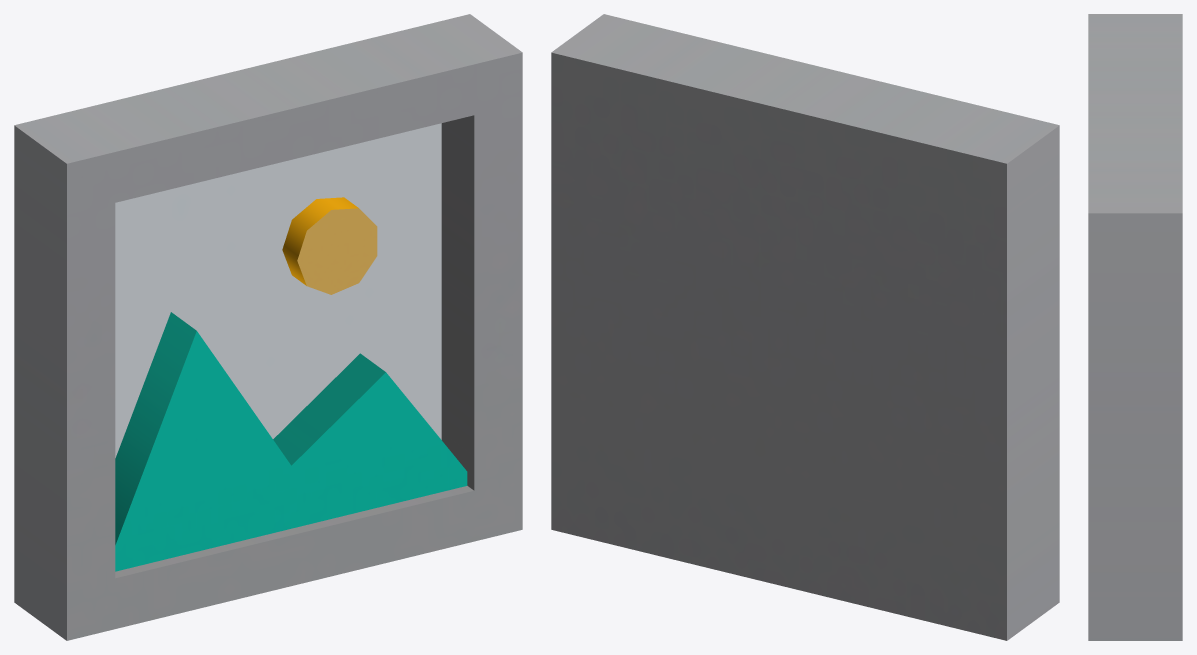
File: SM_Image.fbx
3 renders of one model, left to right at view 1: azimuth 30°, elevation 25°; view 2: azimuth 150°, elevation 25°; view 3: azimuth 270°, elevation 25°, orthographic. The views are drawn at different scales.
Parts seen in each view (by area): view 1: SM_Image; view 2: SM_Image; view 3: SM_Image.
Part boxes in pixels (x1,y1,x2,y2): SM_Image: [14, 14, 522, 640]; SM_Image: [551, 14, 1059, 640]; SM_Image: [1088, 14, 1182, 640].
Bounding box in the file's own units: 25.22 × 25.22 × 5.05.
